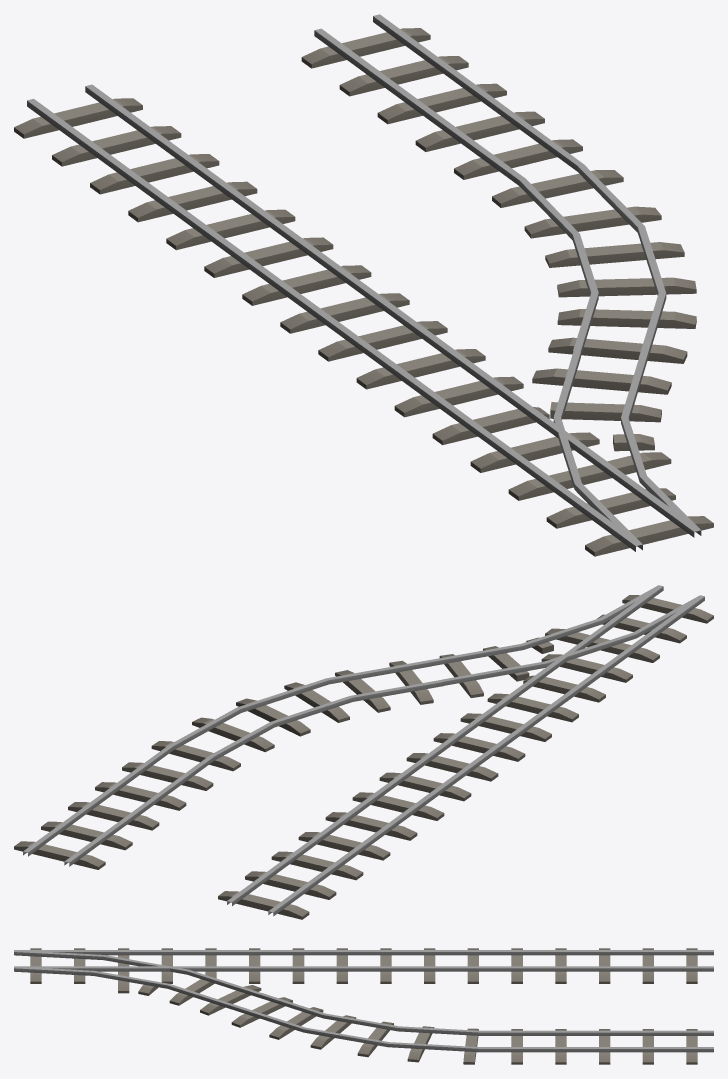
File: Railway_Line_Y_R.fbx
3 renders of one model, top to bottom at view 1: azimuth 30°, elevation 25°; view 2: azimuth 150°, elevation 25°; view 3: azimuth 270°, elevation 25°, orthographic. The views are drawn at different scales.
Parts seen in each view (by area): view 1: Railway_Line_Y_R; view 2: Railway_Line_Y_R; view 3: Railway_Line_Y_R.
Part boxes in pixels (bbox=[...]): Railway_Line_Y_R: bbox=[14, 14, 713, 556]; Railway_Line_Y_R: bbox=[14, 585, 713, 919]; Railway_Line_Y_R: bbox=[14, 948, 713, 1064].
Size of the model in its own units: 1543 by 51.82 by 4000.
